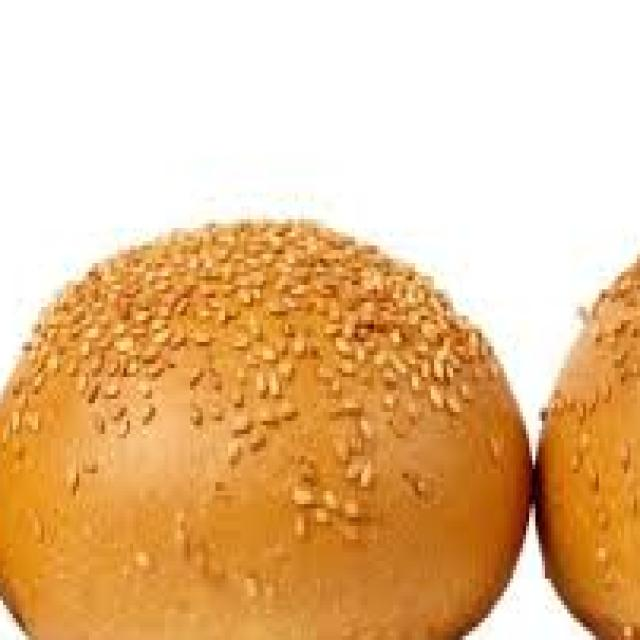inorganic: (0, 209, 623, 627)
